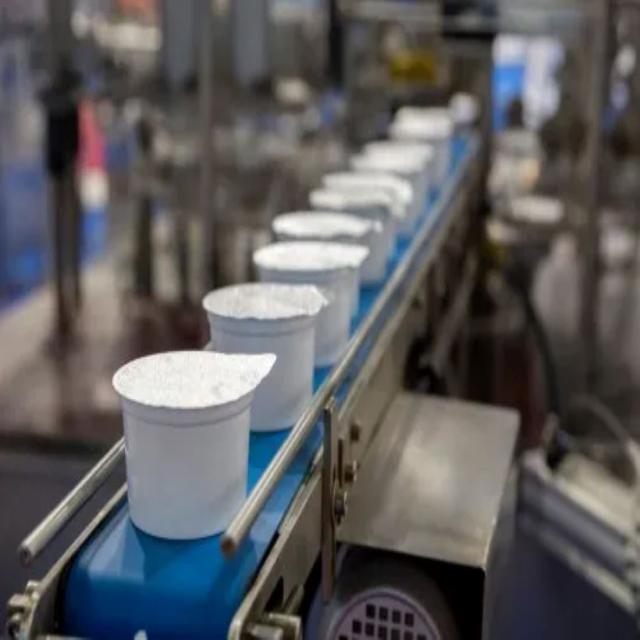food: (110, 346, 277, 541), (200, 278, 328, 434)
